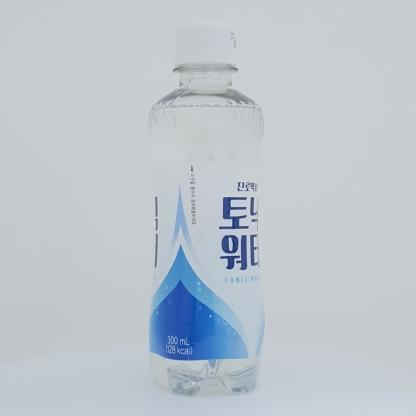----------300ML: (147, 22, 264, 397)
